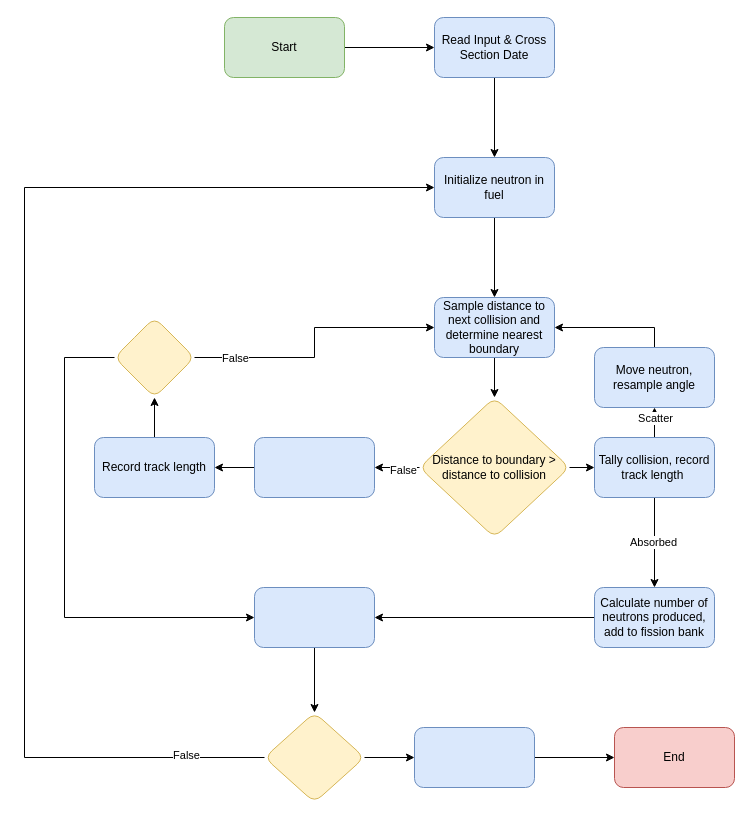
The diagram is 752 pixels wide and 820 high, and some of its shapes have lost their labels. The centre of each missing label's shape, as x and y in pixels:
"All source particles are finish." goes at pixel 314 757.
"Change neutron region" goes at pixel 314 467.
"Neutron escapes" goes at pixel 154 357.
"Process results" goes at pixel 474 757.
"terminate flight" goes at pixel 314 617.
